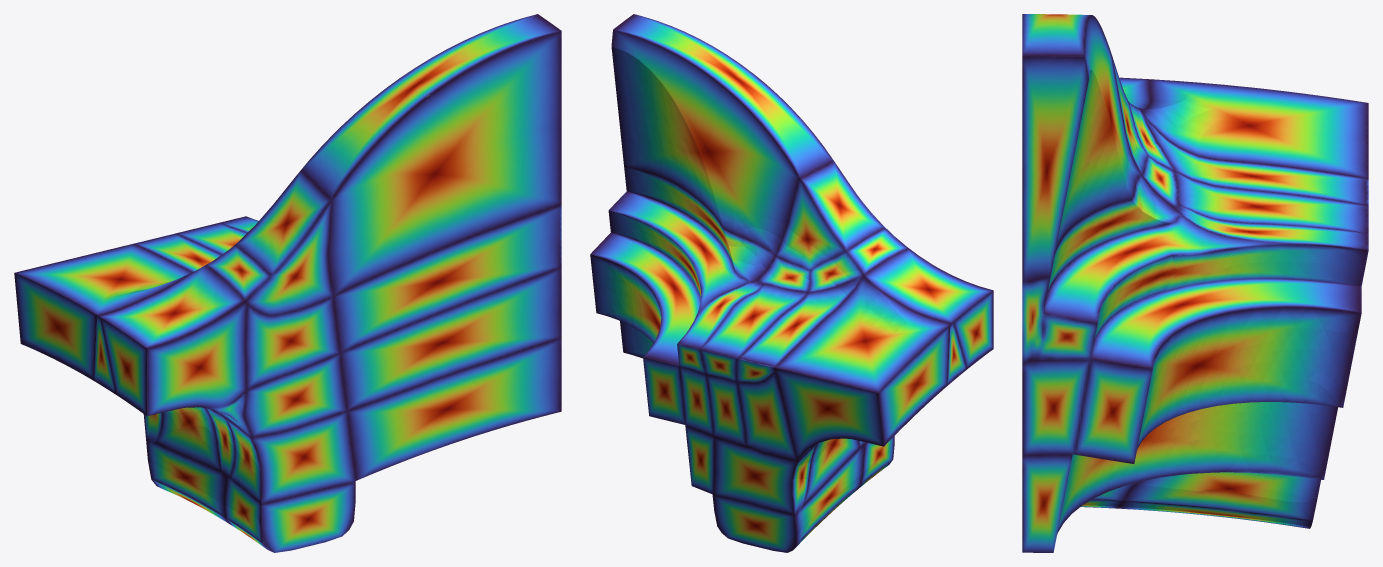
File: gen1.glb
3 renders of one model, left to right at view 1: azimuth 30°, elevation 25°; view 2: azimuth 150°, elevation 25°; view 3: azimuth 270°, elevation 25°, orthographic. The views are drawn at different scales.
Parts seen in each view (by area): view 1: Node; view 2: Node; view 3: Node.
Part boxes in pixels (x1,y1,x2,y2): Node: [14, 14, 561, 552]; Node: [590, 14, 993, 552]; Node: [1022, 14, 1368, 552].
Size of the model in its own units: 4.83 by 5.24 by 2.68.
Materials: 1 (1 with a texture image).
